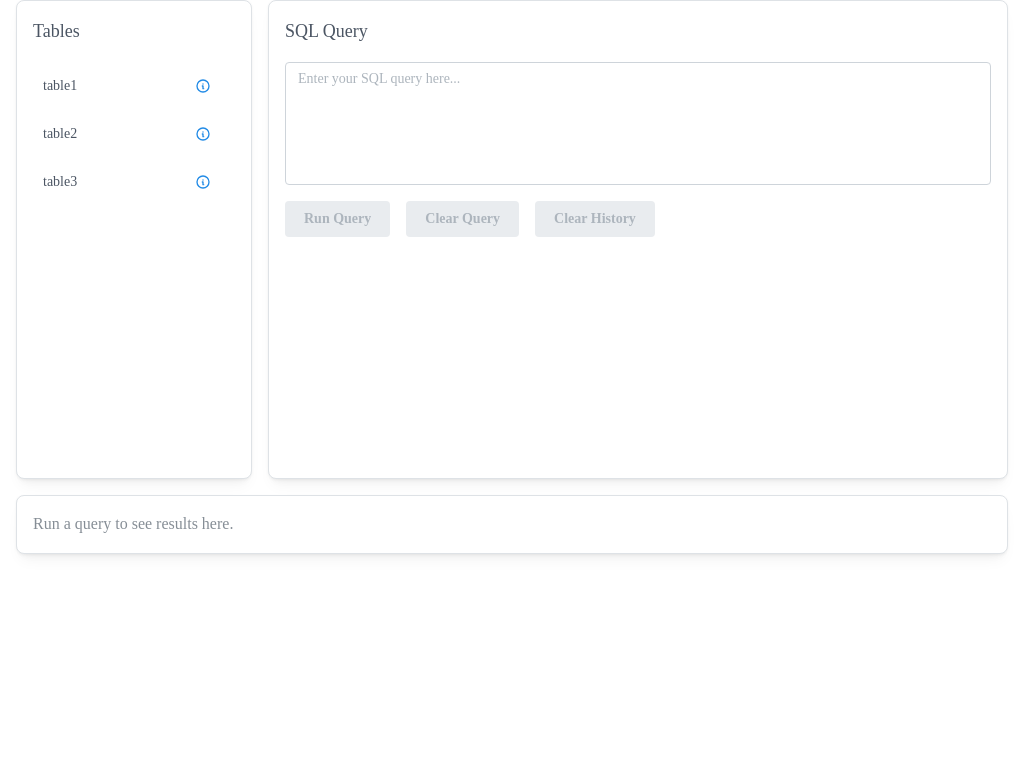
Test: DatabaseViewer Component › handles table selection
// Click on a table
Click the text "table1": point(60, 85) [43,78,77,93]
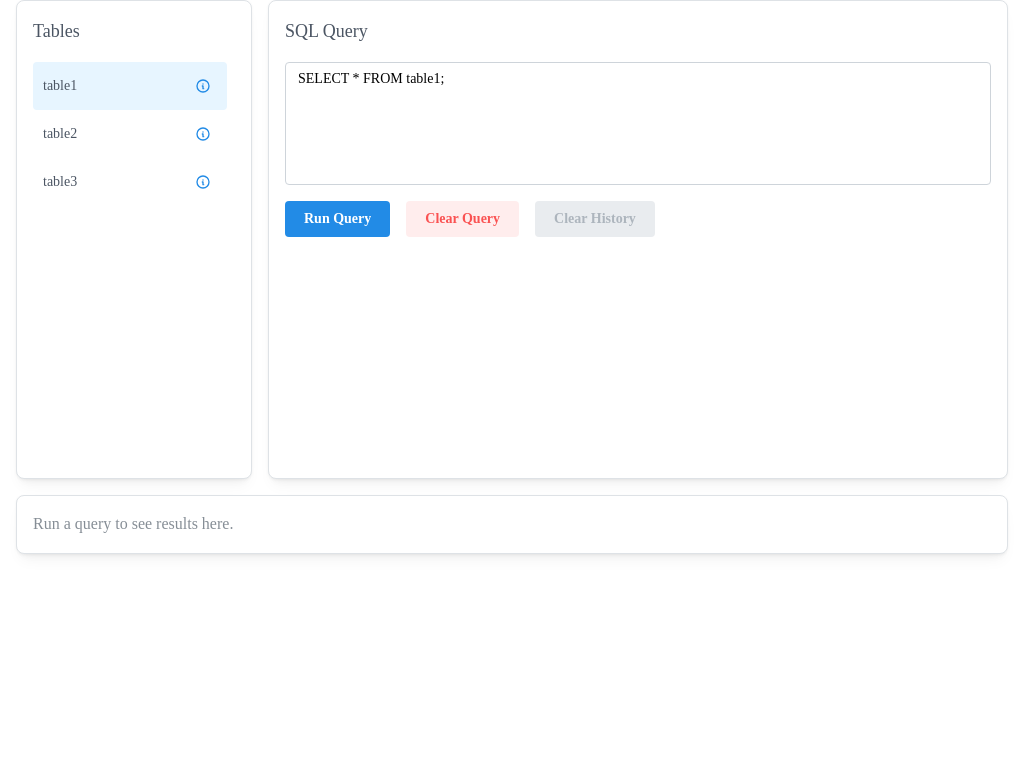
Check: the text box holds "SELECT * FROM table1;", box [285,62,991,185]
